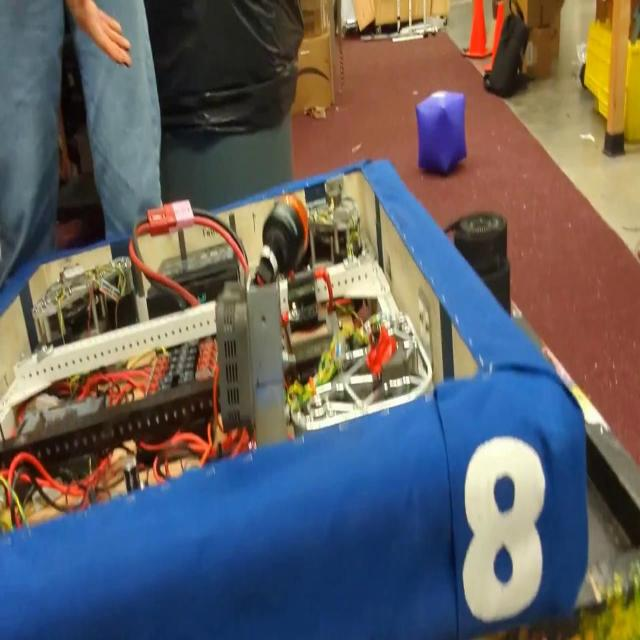frc_cube: (416, 88, 466, 177)
